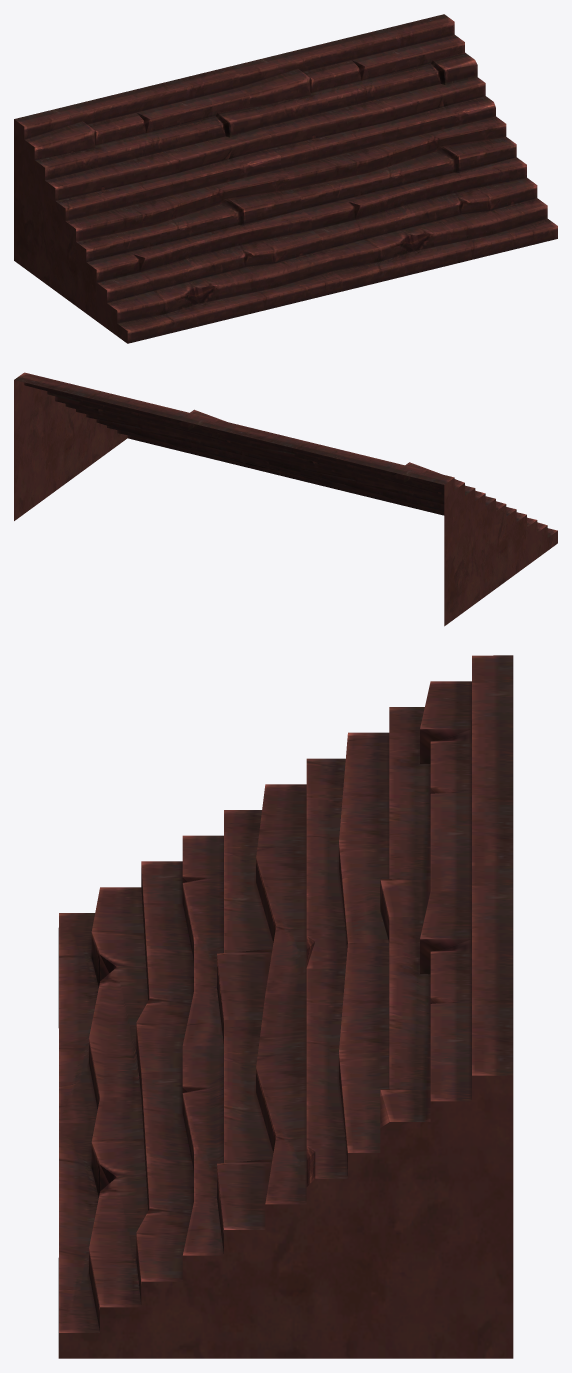
The model's file is lava_stair_halfdouble_01.fbx.
The picture shows the model from 3 angles, top to bottom: view 1: azimuth 30°, elevation 25°; view 2: azimuth 150°, elevation 25°; view 3: azimuth 270°, elevation 25°; orthographic projection. The views are drawn at different scales.
Visible parts, largest first — view 1: lava_stair_halfdouble_01-0; view 2: lava_stair_halfdouble_01-0; view 3: lava_stair_halfdouble_01-0.
Boxes of the visible parts, x1,y1,x2,y2 form: lava_stair_halfdouble_01-0: (14, 14, 557, 343); lava_stair_halfdouble_01-0: (14, 372, 557, 626); lava_stair_halfdouble_01-0: (58, 655, 513, 1358).
Size of the model in its own units: 8.75 by 2.75 by 4.
